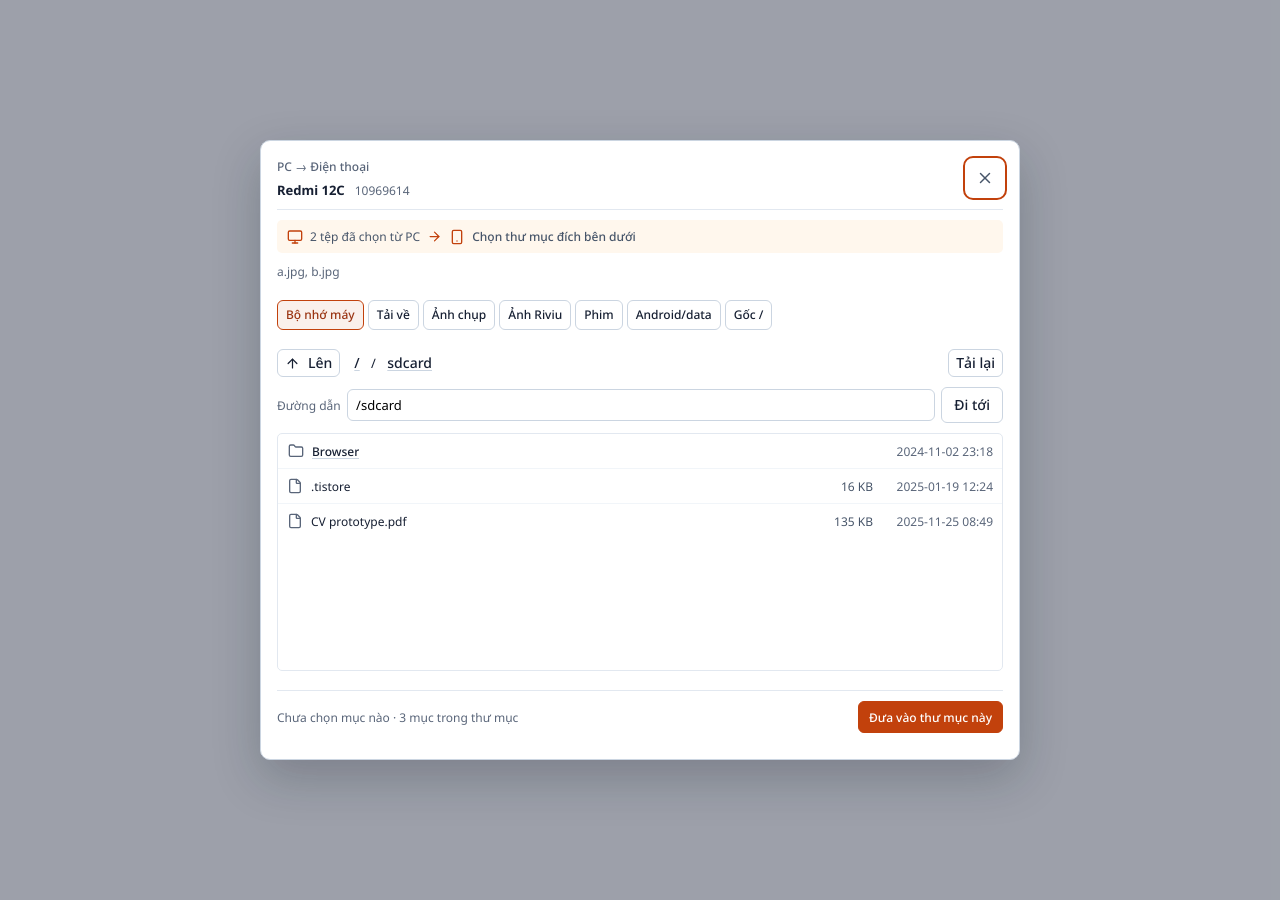
Test case: DeviceFilesPopup › uploads chosen PC files into the navigated folder and retries only failures
What coordinates should you click on to do the following:
click the button "Browser"
I would click on:
 (336, 451)
Its box is [287,438,800,466].
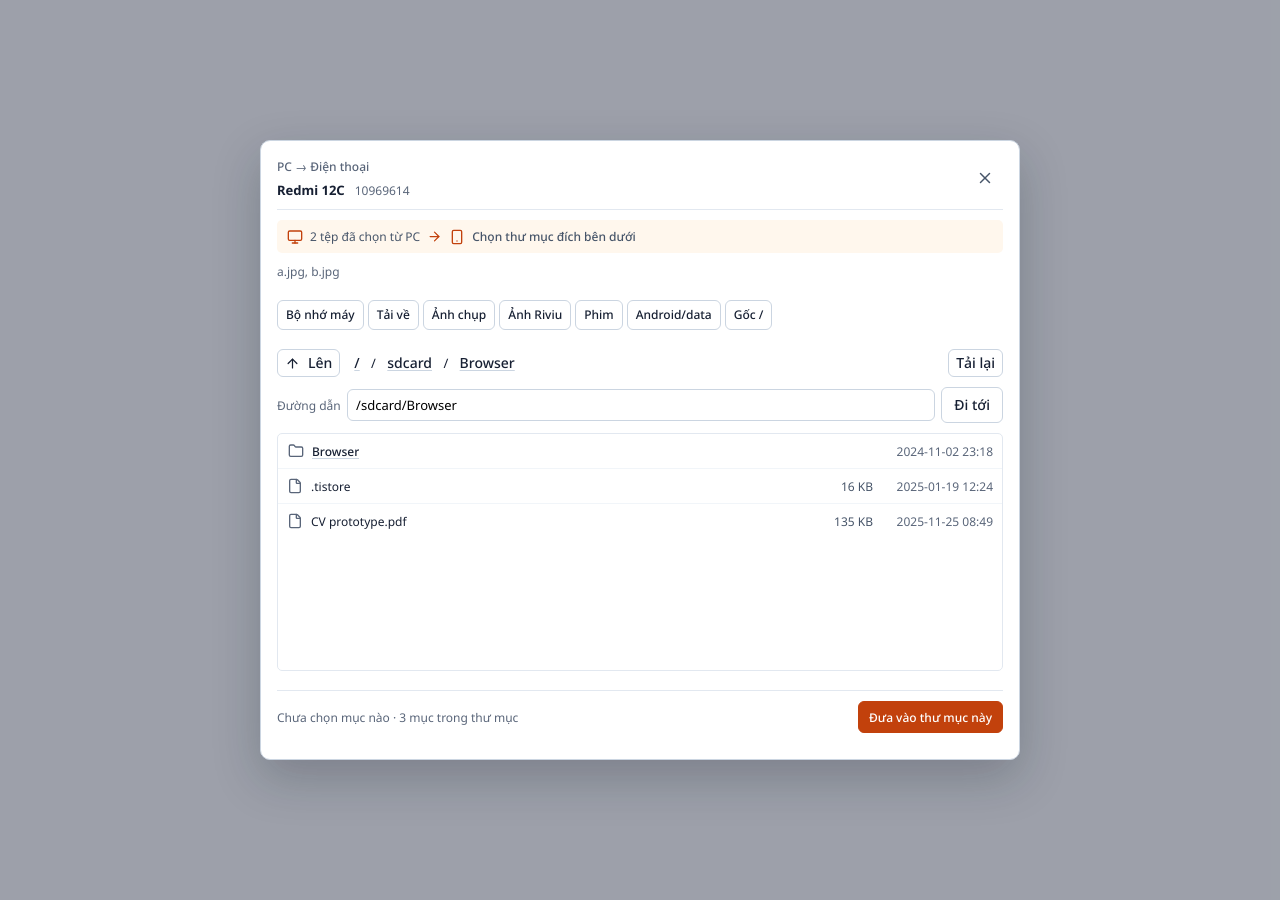
What coordinates should you click on to do the following:
click the button "Đưa vào thư mục này"
I would click on:
 (930, 717)
Its box is [858,701,1003,733].
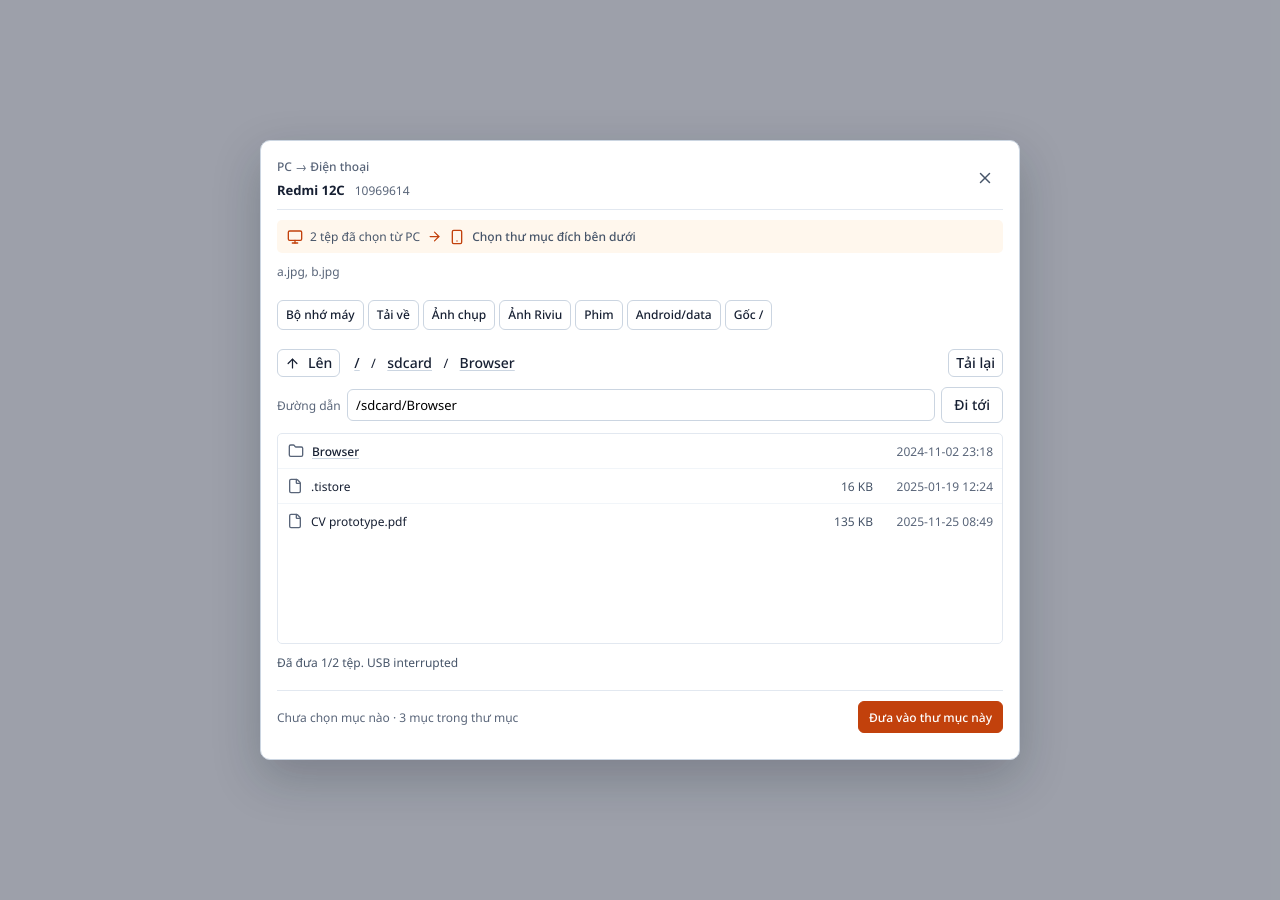
Now the text "Đã đưa 1/2 tệp. USB interrupted" is shown, box [277,654,458,671]
What coordinates should you click on to do the following:
click the button "Đưa vào thư mục này"
I would click on:
 (930, 717)
Its box is [858,701,1003,733].
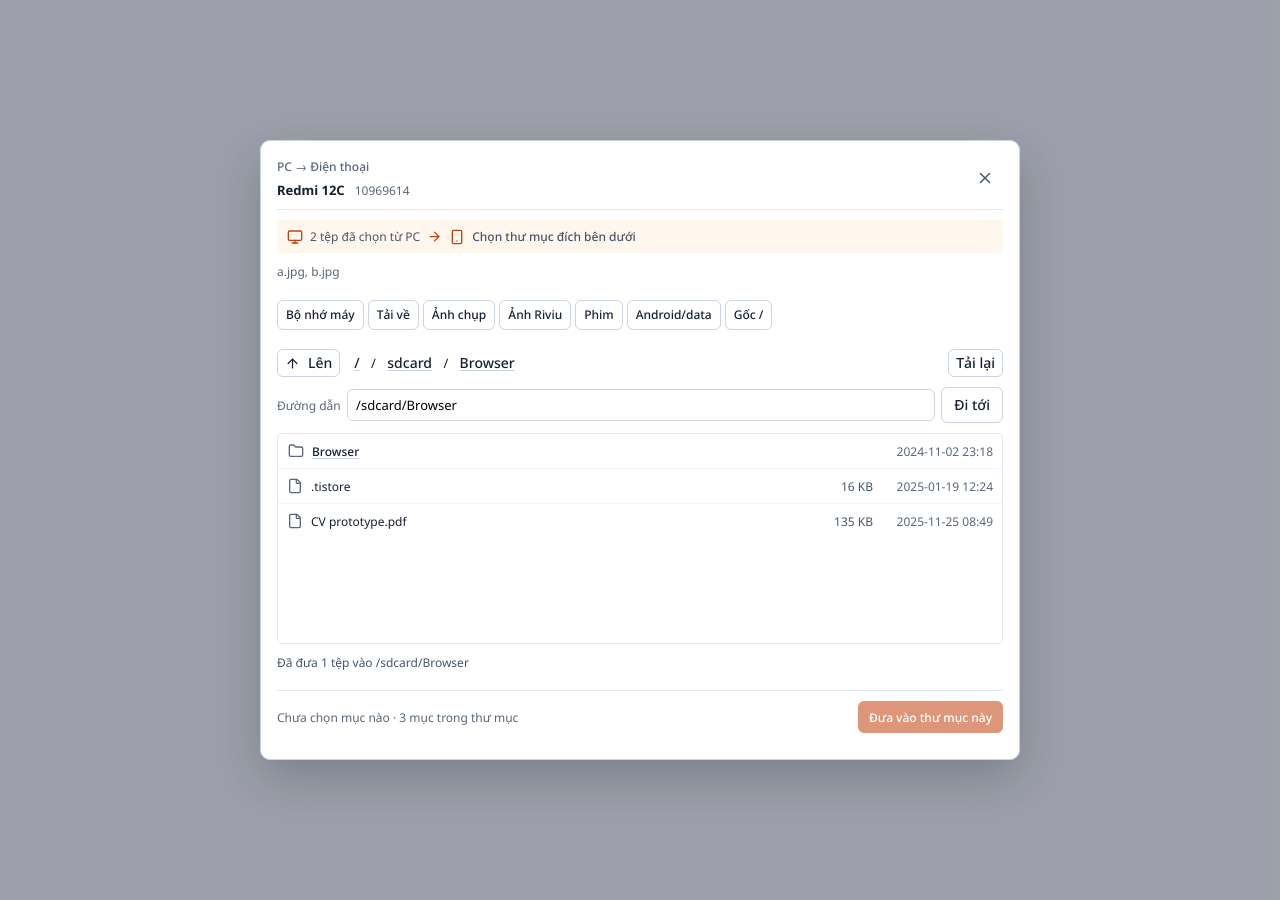
Now the button "Đưa vào thư mục này" is disabled, box [858,701,1003,733]
